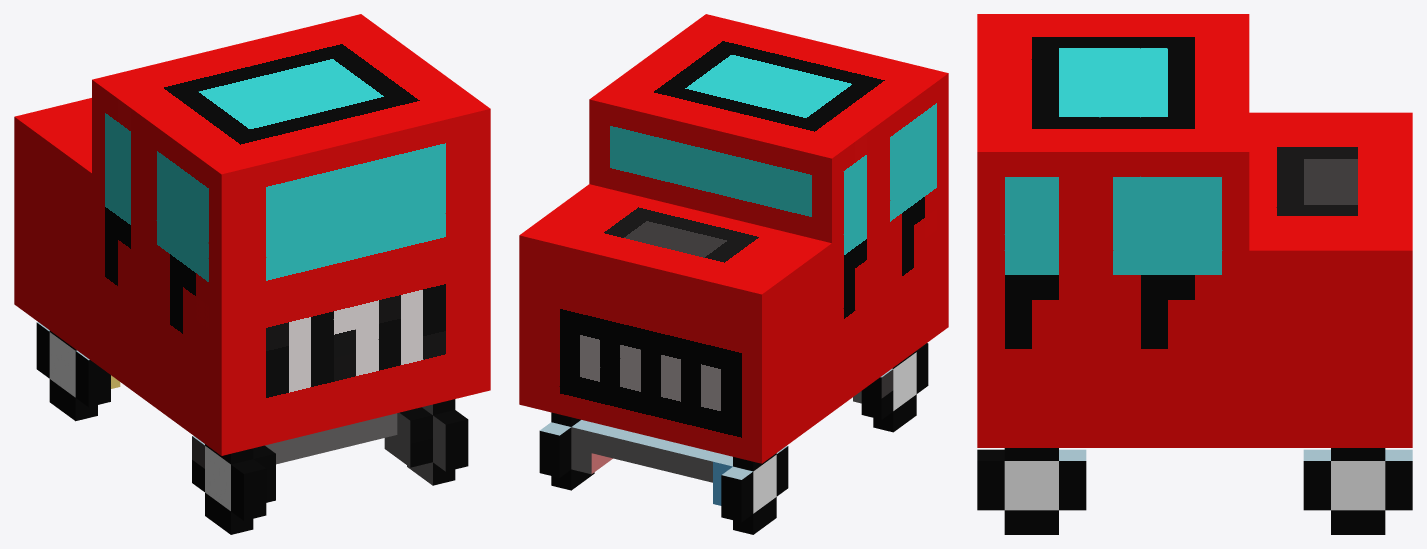
The model's file is Dae.dae.
3 views of the same model, side by side, from view 1: azimuth 30°, elevation 25°; view 2: azimuth 150°, elevation 25°; view 3: azimuth 270°, elevation 25° (orthographic). The views are drawn at different scales.
Visible parts, largest first — view 1: Body, cube (×13); view 2: Body, cube (×18); view 3: Body, cube (×22).
Boxes of the visible parts, x1,y1,x2,y2 form: Body: (14, 98, 490, 455); cube (×13): (62, 14, 490, 534); Body: (519, 158, 948, 463); cube (×18): (539, 14, 948, 534); Body: (977, 112, 1412, 447); cube (×22): (977, 14, 1412, 534).
Size of the model in its own units: 0.75 by 1 by 1.
1 material, 1 textured.
